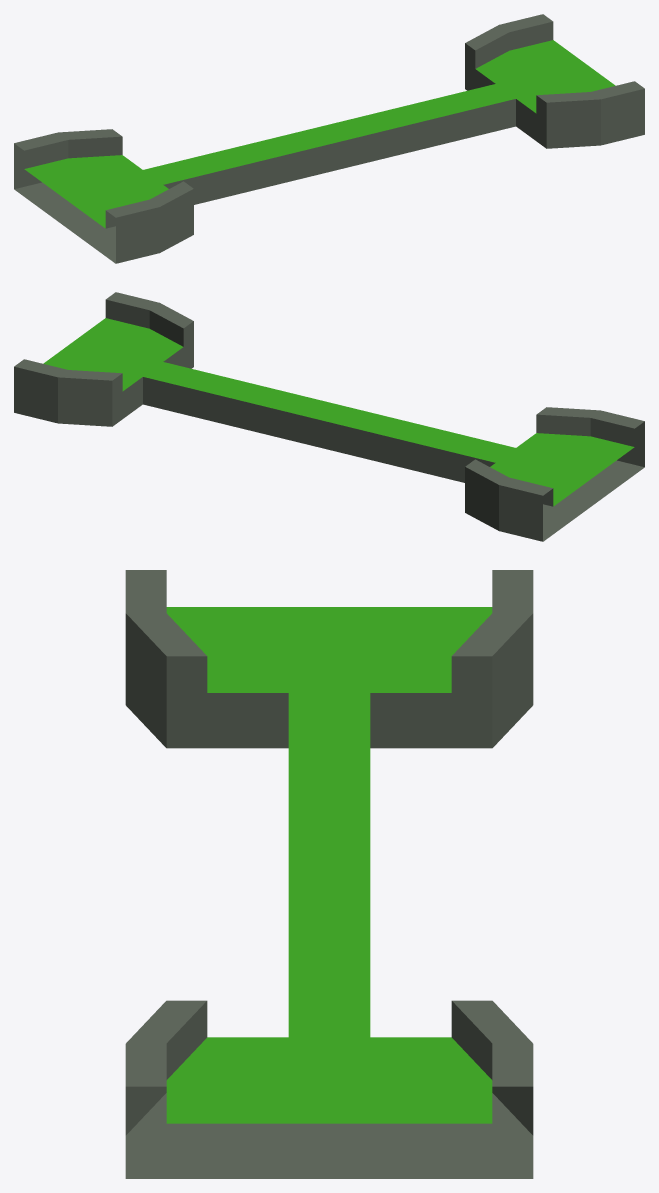
The model's file is BalanceBeamLong.fbx.
3 views of the same model, one above another, from view 1: azimuth 30°, elevation 25°; view 2: azimuth 150°, elevation 25°; view 3: azimuth 270°, elevation 25° (orthographic). The views are drawn at different scales.
Visible parts, largest first — view 1: BalanceBeam.003; view 2: BalanceBeam.003; view 3: BalanceBeam.003.
Boxes of the visible parts, box(x1,y1,x2,y2) form: BalanceBeam.003: box(14, 14, 644, 263); BalanceBeam.003: box(14, 292, 644, 541); BalanceBeam.003: box(125, 570, 533, 1178).
Bounding box in the file's own units: 600 × 50 × 200.
